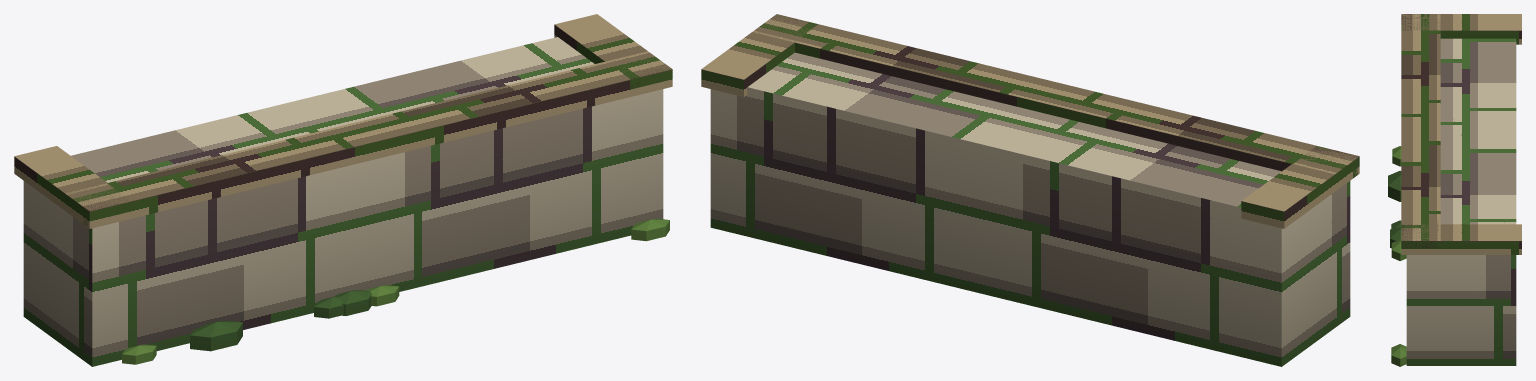
The model's file is scene_cross2e.glb.
3 renders of one model, left to right at view 1: azimuth 30°, elevation 25°; view 2: azimuth 150°, elevation 25°; view 3: azimuth 270°, elevation 25°, orthographic. The views are drawn at different scales.
Visible parts, largest first — view 1: scene_cross2e; view 2: scene_cross2e; view 3: scene_cross2e.
Part boxes in pixels (x1,y1,x2,y2): scene_cross2e: (14,14,672,366); scene_cross2e: (701,14,1359,366); scene_cross2e: (1388,14,1521,366).
Bounding box in the file's own units: 4.9 × 1.35 × 1.22.
2 materials, 1 textured.
